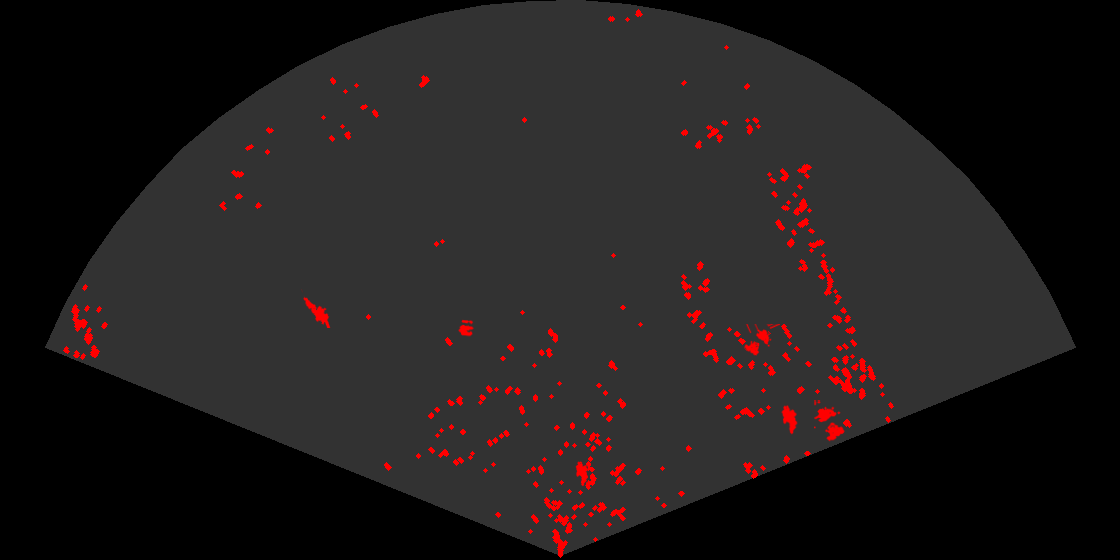AUV: (780, 403, 798, 436), (574, 460, 588, 488)
ball: (457, 318, 476, 338)
cage: (814, 400, 846, 443), (742, 324, 780, 357)
frogman: (301, 289, 332, 328)
